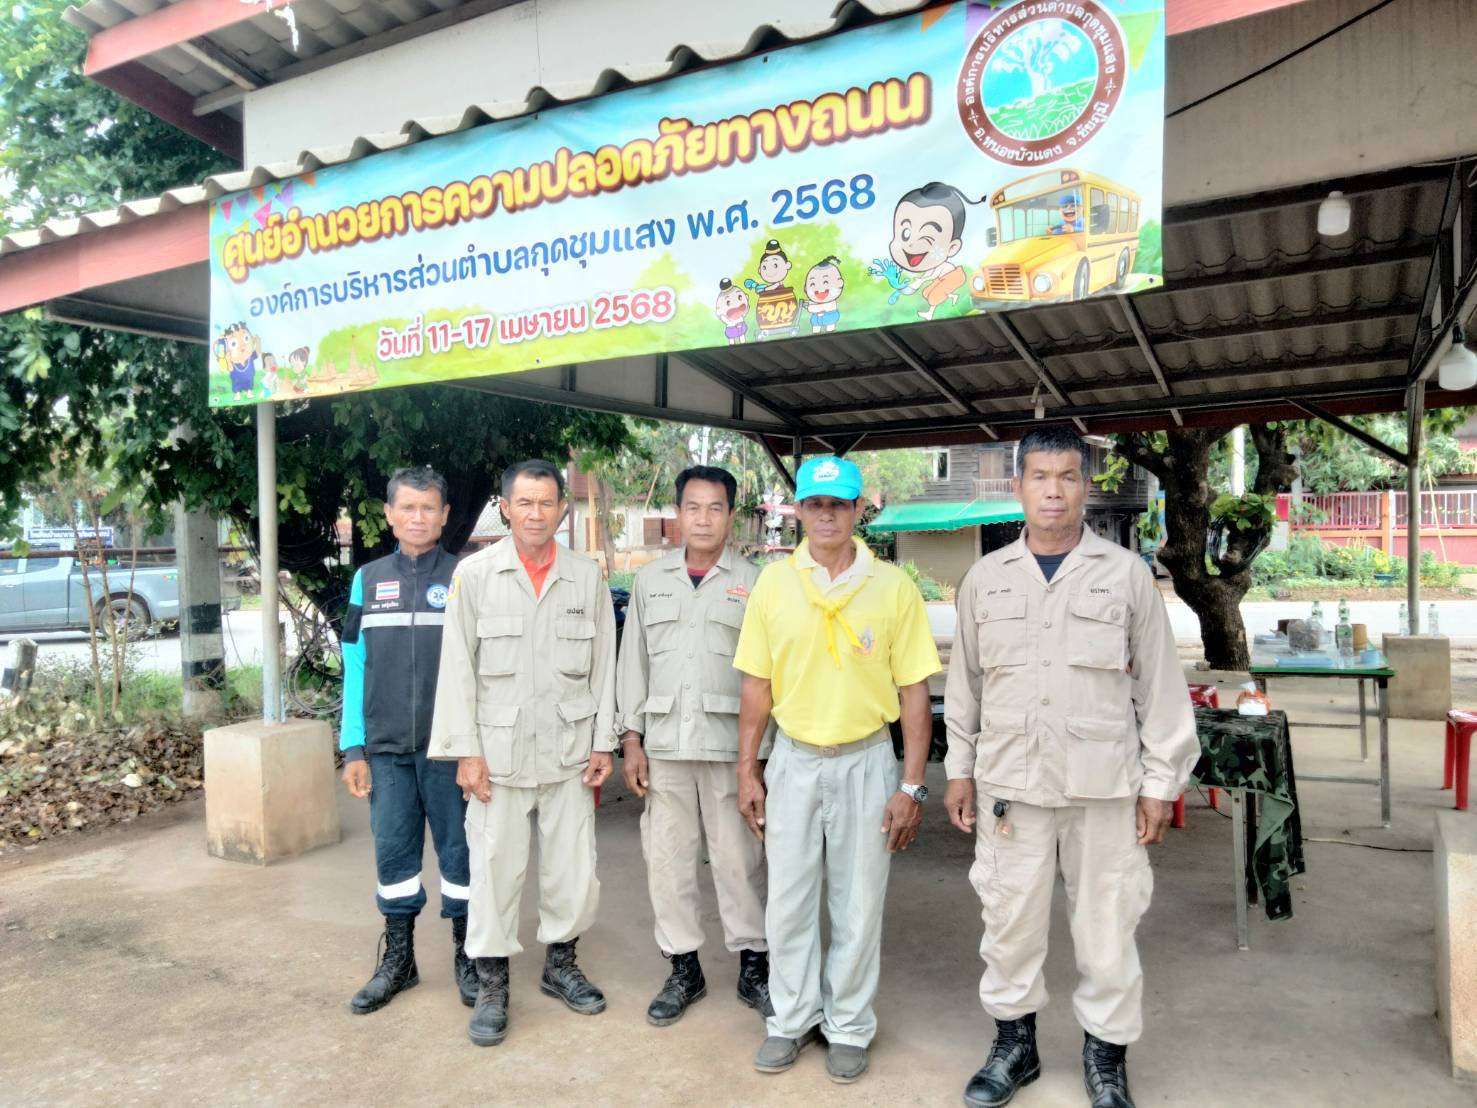text: (213, 55, 944, 286), (241, 192, 766, 327), (365, 275, 680, 367), (757, 166, 882, 230), (564, 605, 585, 616)
